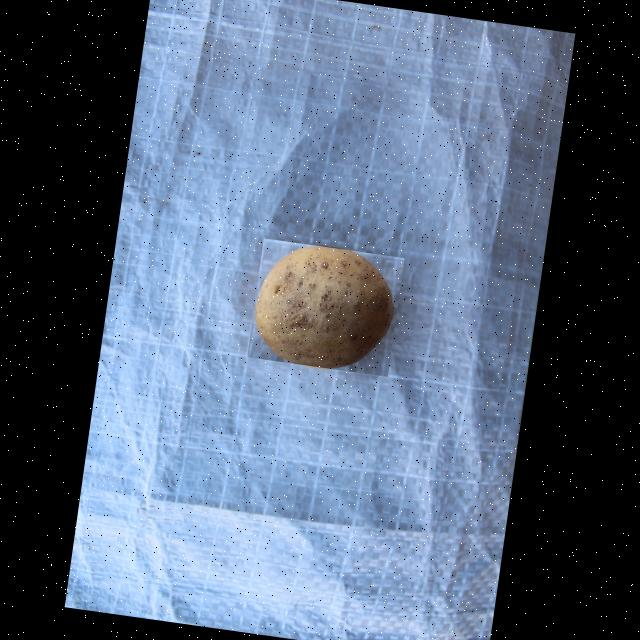Diseased-fungal potato: (248, 237, 404, 376)
